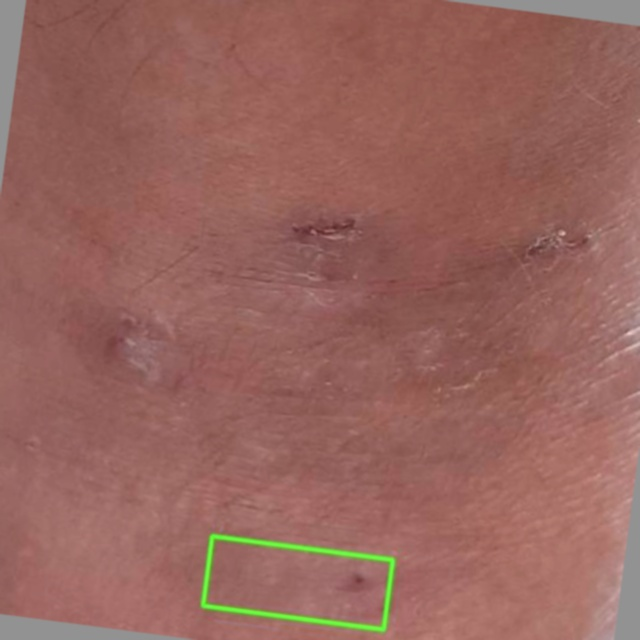Contact Dermatitis: (203, 536, 393, 629)
